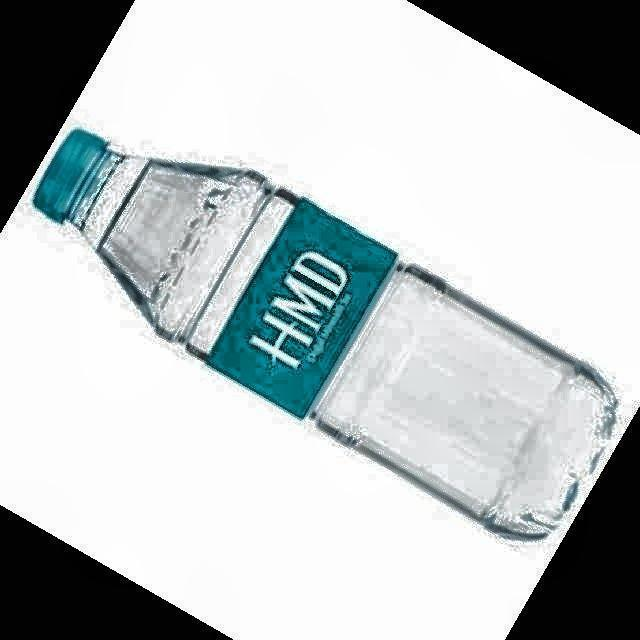plastic: (34, 130, 616, 538)
